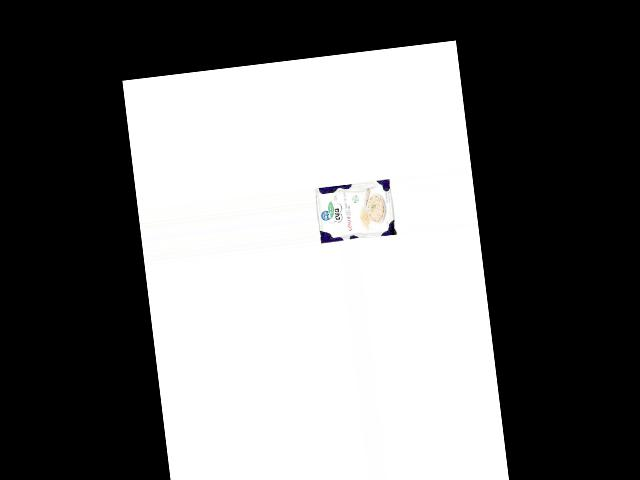cheese: (313, 177, 398, 245)
